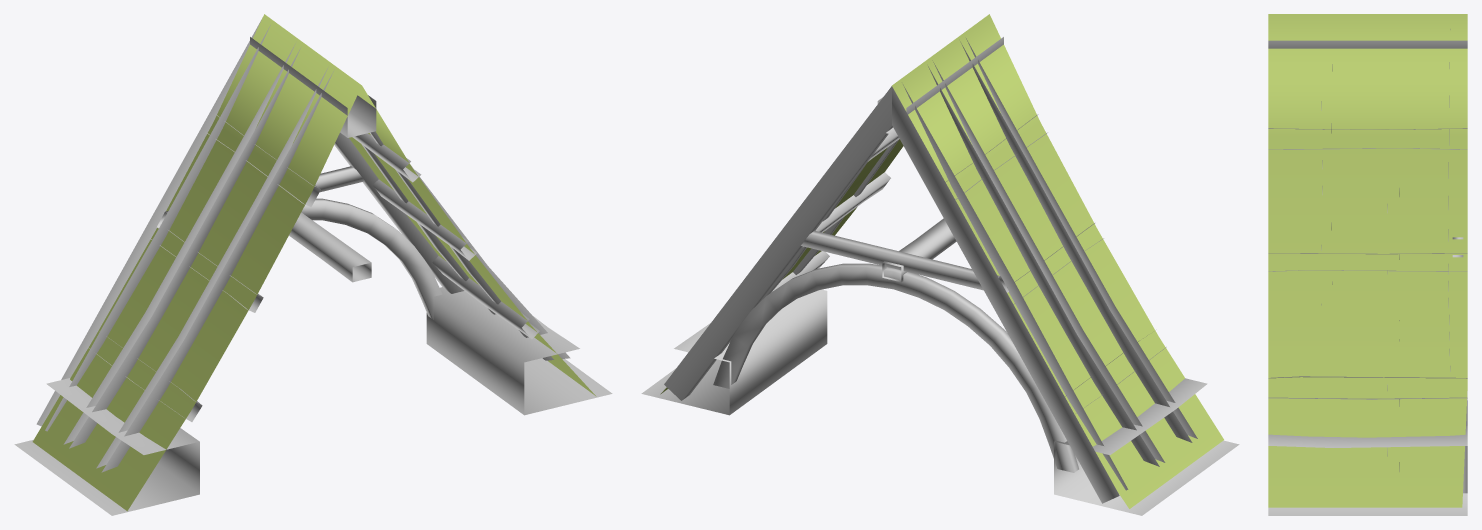
The model's file is roof_inside_medium.fbx.
3 renders of one model, left to right at view 1: azimuth 30°, elevation 25°; view 2: azimuth 150°, elevation 25°; view 3: azimuth 270°, elevation 25°, orthographic. The views are drawn at different scales.
Parts seen in each view (by area): view 1: Cube.041; view 2: Cube.041; view 3: Cube.041.
Part boxes in pixels (x1,y1,x2,y2): Cube.041: (14,14,612,515); Cube.041: (641,14,1239,515); Cube.041: (1268,14,1467,515).
Size of the model in its own units: 14.79 by 10.43 by 5.
